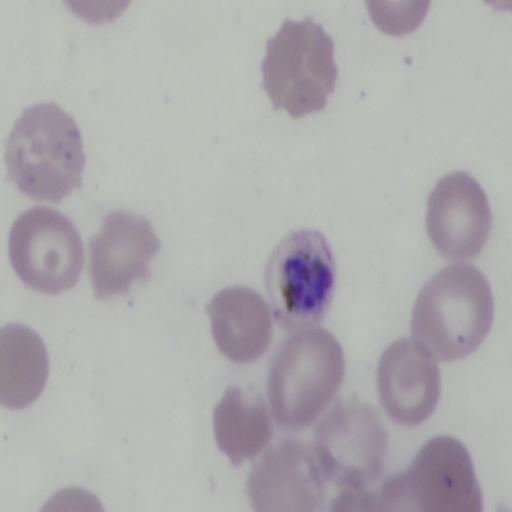Infected: (264, 231, 339, 331)
Uninfected: (410, 261, 496, 362), (4, 101, 84, 202), (262, 17, 339, 119), (269, 331, 344, 434), (8, 208, 84, 296), (89, 213, 157, 297), (426, 170, 489, 259), (378, 337, 438, 425), (210, 286, 273, 362), (213, 389, 273, 465)
